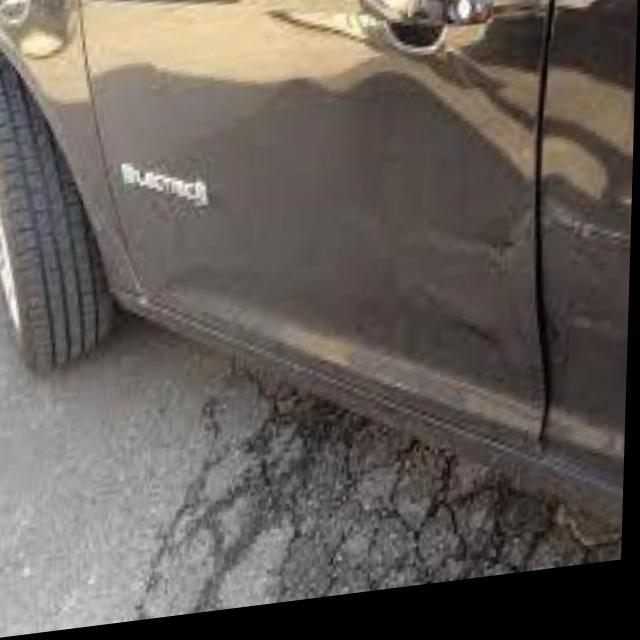rub: (392, 195, 633, 389)
